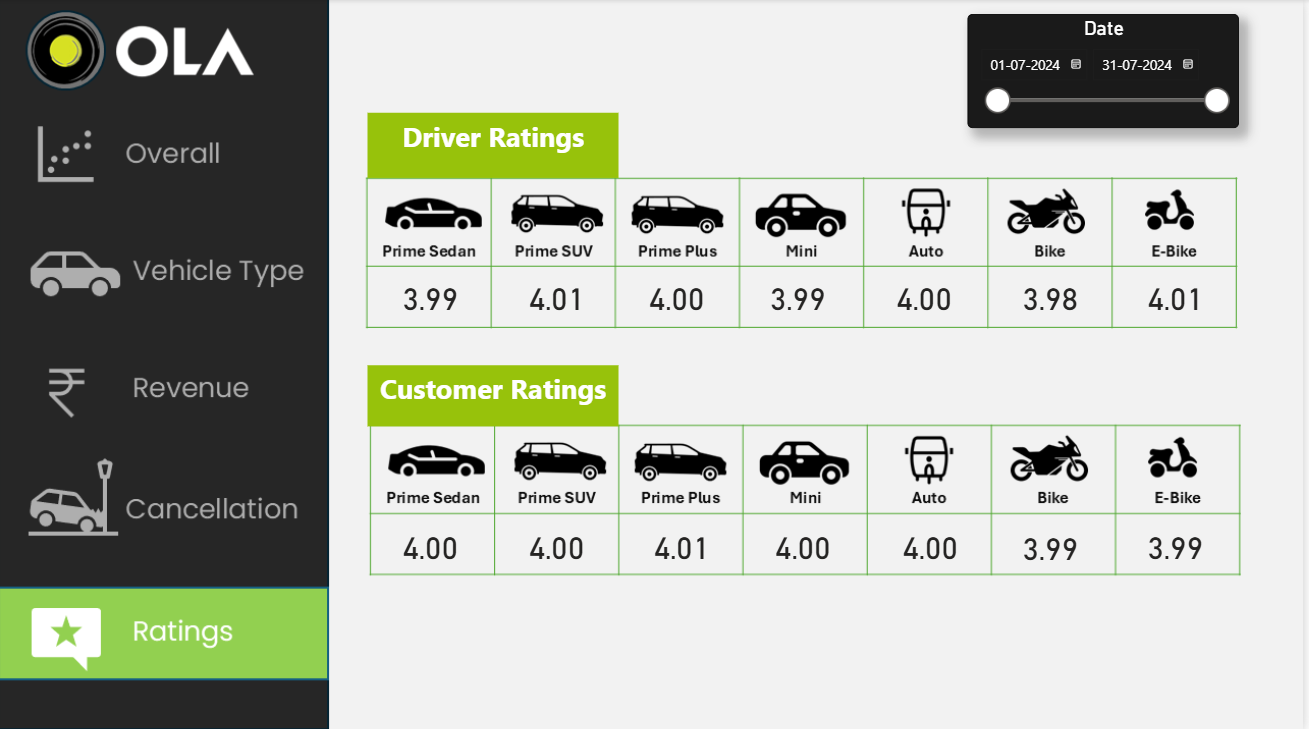

Layout of this report page (visuals, bound fields, positions):
{"tool":"powerbi","page":{"name":"Ratings","canvas":[1280,720],"ordinal":4},"visuals":[{"type":"actionButton","box":[0,111.7,321.5,89.6],"z":0},{"type":"actionButton","box":[0,439.3,321.5,132.5],"z":1000},{"type":"actionButton","box":[0,203.7,321.5,130.1],"z":2000},{"type":"actionButton","box":[0,333.7,321.5,105.5],"z":3000},{"type":"card","fields":{"Values":["Avg(Bookings.Driver_Ratings)"]},"box":[360.9,263.5,123.5,57.6],"z":4000},{"type":"card","fields":{"Values":["Avg(Bookings.Driver_Ratings)"]},"box":[484.4,263.5,123.5,57.6],"z":5000},{"type":"card","fields":{"Values":["Avg(Bookings.Driver_Ratings)"]},"box":[607.9,263.5,113.9,57.6],"z":6000},{"type":"card","fields":{"Values":["Avg(Bookings.Driver_Ratings)"]},"box":[721.8,263.5,123.5,57.6],"z":7000},{"type":"card","fields":{"Values":["Avg(Bookings.Driver_Ratings)"]},"box":[845.3,263.5,123.5,57.6],"z":8000},{"type":"card","fields":{"Values":["Avg(Bookings.Driver_Ratings)"]},"box":[968.8,263.5,123.5,57.6],"z":9000},{"type":"card","fields":{"Values":["Avg(Bookings.Driver_Ratings)"]},"box":[1092.3,263.5,123.5,57.6],"z":10000},{"type":"card","fields":{"Values":["Avg(Bookings.Customer_Rating)"]},"box":[360.9,509.1,123.5,56.3],"z":11000},{"type":"card","fields":{"Values":["Avg(Bookings.Customer_Rating)"]},"box":[484.4,509.1,123.5,56.3],"z":12000},{"type":"card","fields":{"Values":["Avg(Bookings.Customer_Rating)"]},"box":[607.9,509.1,123.5,56.3],"z":13000},{"type":"card","fields":{"Values":["Avg(Bookings.Customer_Rating)"]},"box":[731.4,509.1,113.9,56.3],"z":14000},{"type":"card","fields":{"Values":["Avg(Bookings.Customer_Rating)"]},"box":[857.6,509.1,111.1,56.3],"z":15000},{"type":"card","fields":{"Values":["Avg(Bookings.Customer_Rating)"]},"box":[968.8,510.5,123.5,56.3],"z":16000},{"type":"card","fields":{"Values":["Avg(Bookings.Customer_Rating)"]},"box":[1092.3,509.1,123.5,56.3],"z":17000},{"type":"textbox","box":[360.7,359.5,246.6,60.1],"z":18000},{"type":"textbox","box":[360.7,111.7,246.6,63.8],"z":19000},{"type":"slicer","title":"Date","fields":{"Values":["Bookings.Date"]},"box":[949.7,14.7,266.3,111.7],"z":20000}]}

Visuals, with their boxes in screenshot pixels (x1, y1, x2, y2), scaled from the page's 1280x720 canvas onto the 1309x729 screenshot:
actionButton: 0/113/329/204
actionButton: 0/445/329/579
actionButton: 0/206/329/338
actionButton: 0/338/329/445
card - Avg(Bookings.Driver_Ratings): 369/267/495/325
card - Avg(Bookings.Driver_Ratings): 495/267/622/325
card - Avg(Bookings.Driver_Ratings): 622/267/738/325
card - Avg(Bookings.Driver_Ratings): 738/267/864/325
card - Avg(Bookings.Driver_Ratings): 864/267/991/325
card - Avg(Bookings.Driver_Ratings): 991/267/1117/325
card - Avg(Bookings.Driver_Ratings): 1117/267/1243/325
card - Avg(Bookings.Customer_Rating): 369/515/495/572
card - Avg(Bookings.Customer_Rating): 495/515/622/572
card - Avg(Bookings.Customer_Rating): 622/515/748/572
card - Avg(Bookings.Customer_Rating): 748/515/864/572
card - Avg(Bookings.Customer_Rating): 877/515/991/572
card - Avg(Bookings.Customer_Rating): 991/517/1117/574
card - Avg(Bookings.Customer_Rating): 1117/515/1243/572
textbox: 369/364/621/425
textbox: 369/113/621/178
"Date" slicer: 971/15/1244/128
